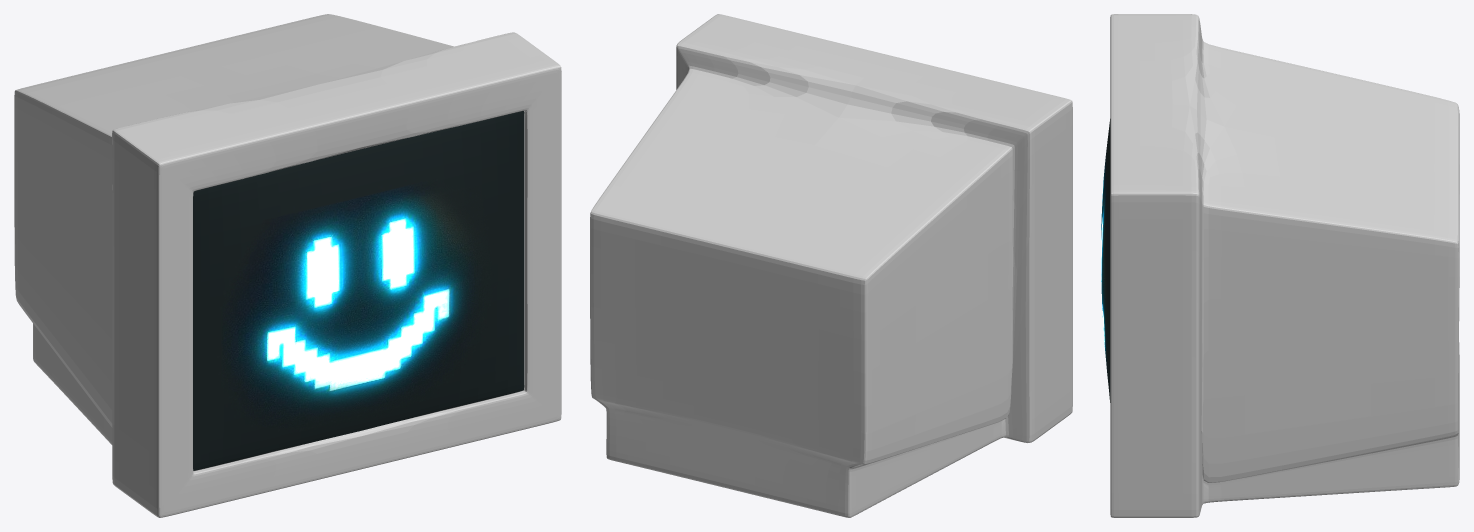
Rendered from MonitorStylised04.glb.
The picture shows the model from 3 angles, left to right: view 1: azimuth 30°, elevation 25°; view 2: azimuth 150°, elevation 25°; view 3: azimuth 270°, elevation 25°; orthographic projection. The views are drawn at different scales.
Visible parts, largest first — view 1: Cube; view 2: Cube; view 3: Cube.
Boxes of the visible parts, bbox=[...] form: Cube: bbox=[14, 14, 561, 517]; Cube: bbox=[590, 14, 1072, 517]; Cube: bbox=[1101, 14, 1459, 517].
Size of the model in its own units: 2.38 by 2 by 1.99.
Materials: 2 (1 with a texture image).
